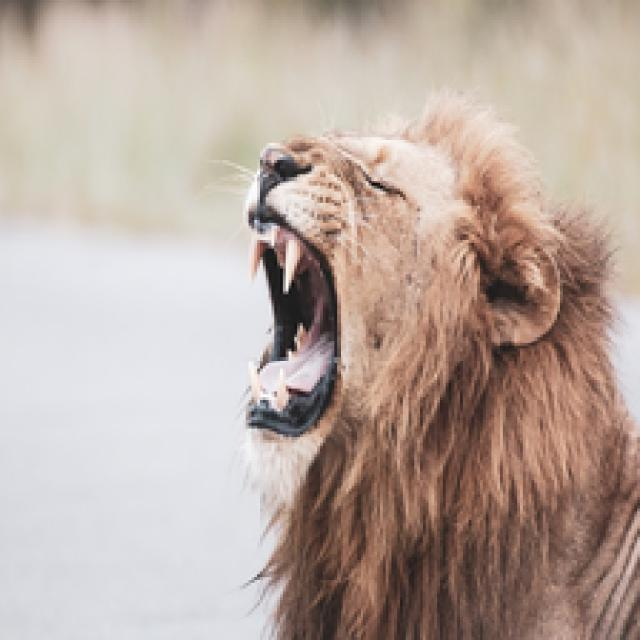lion: (227, 105, 640, 640)
